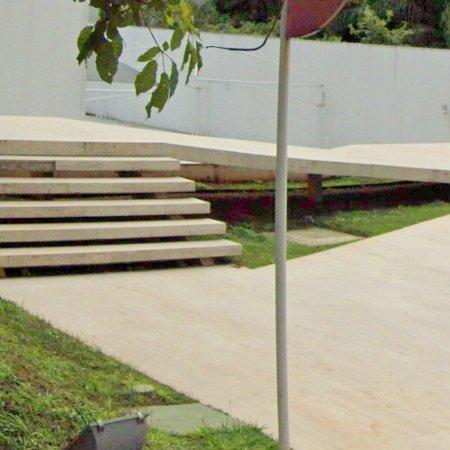stairs: (0, 151, 242, 275)
